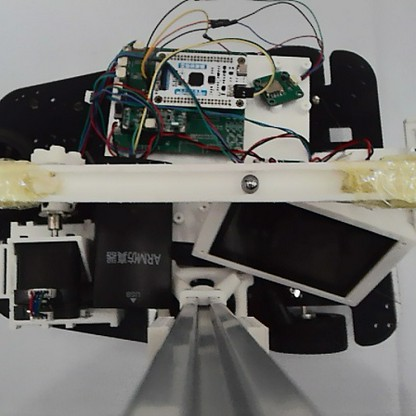ironball: (238, 172, 260, 195)
